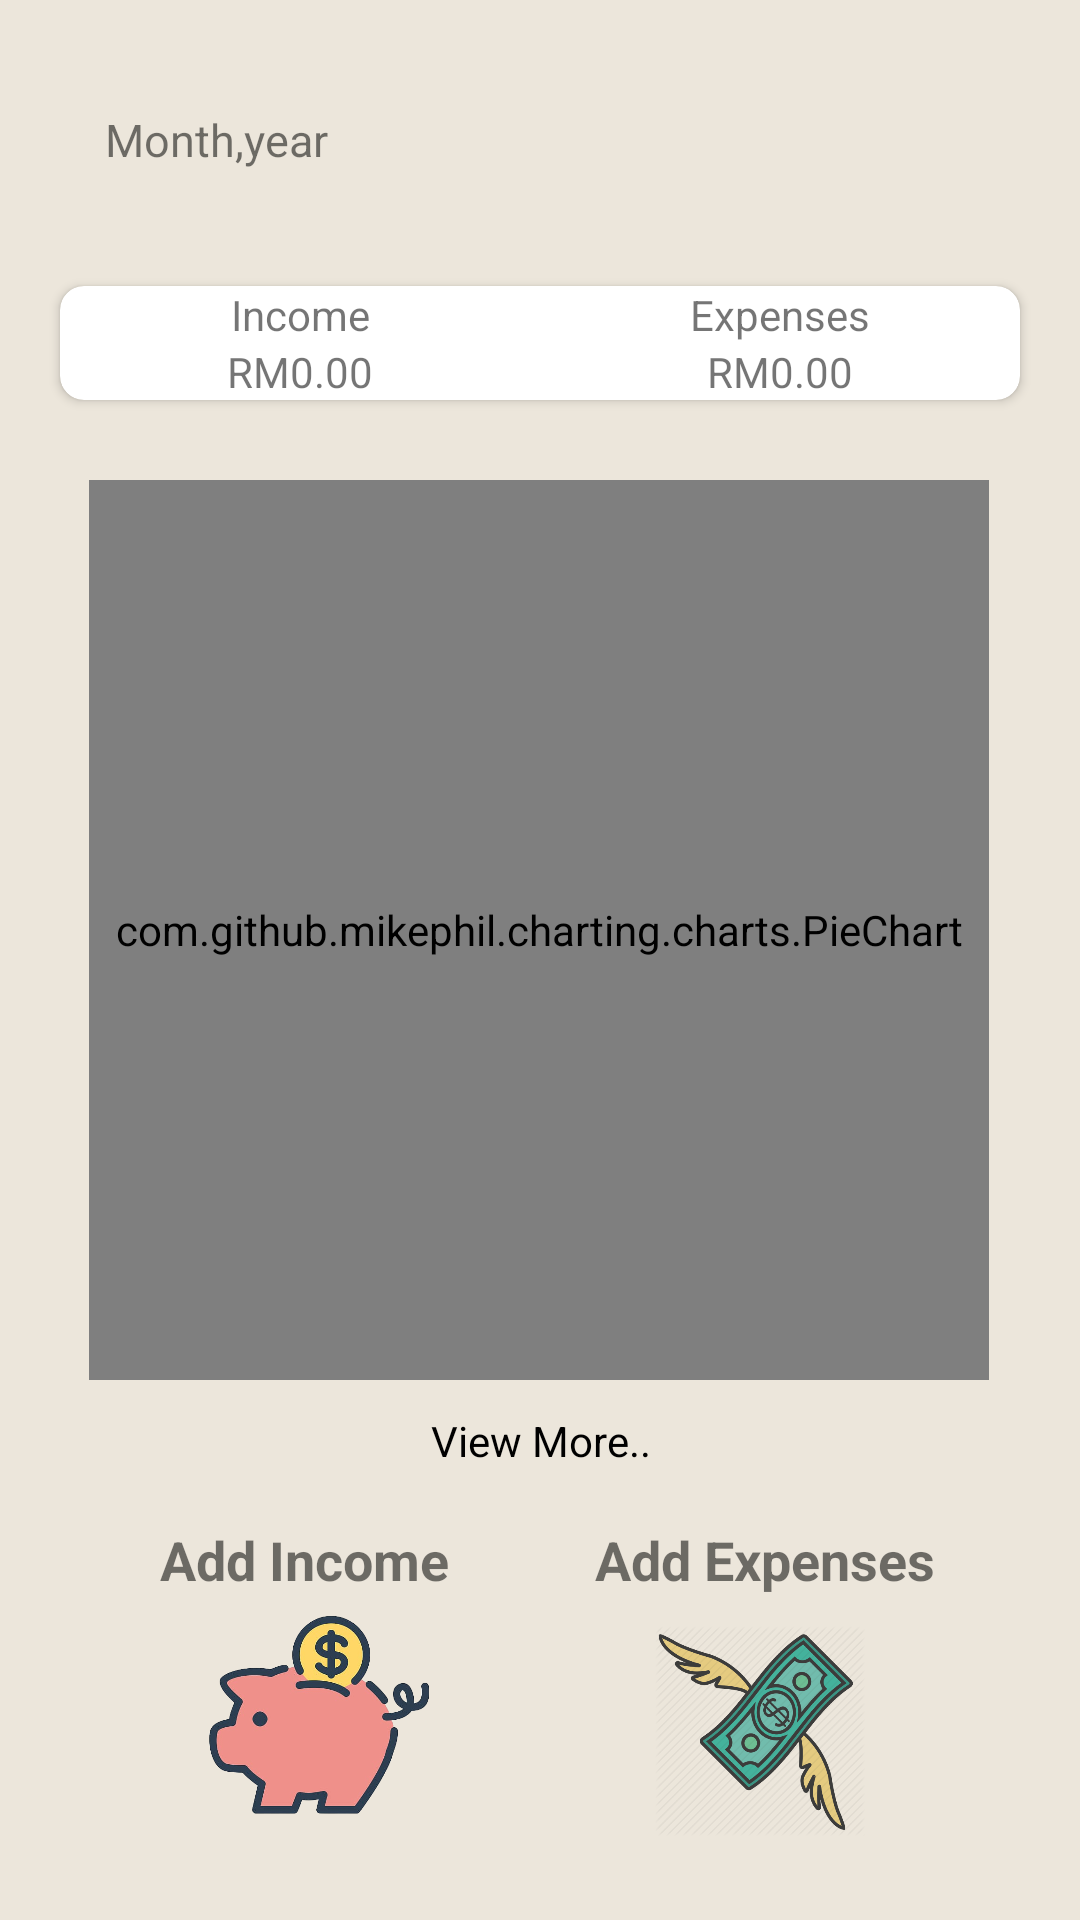

Icons on this 1080×1920 Android screen, each with its box as (x1, y1, x2, y2):
moneyfly: (659, 1634, 853, 1830)
piggybank: (209, 1616, 429, 1814)
